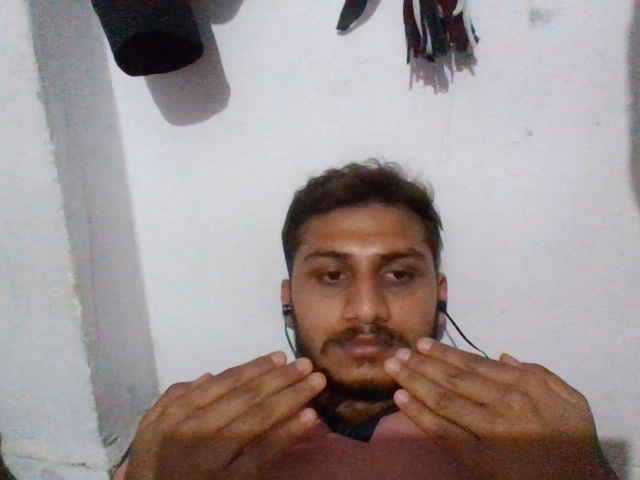Thanks: (119, 341, 625, 479)
